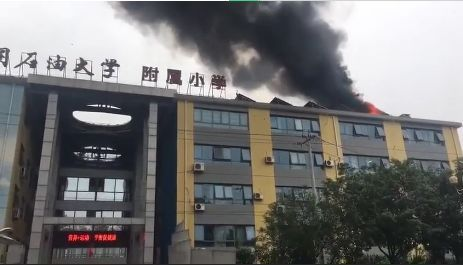smoke: (203, 7, 369, 111)
